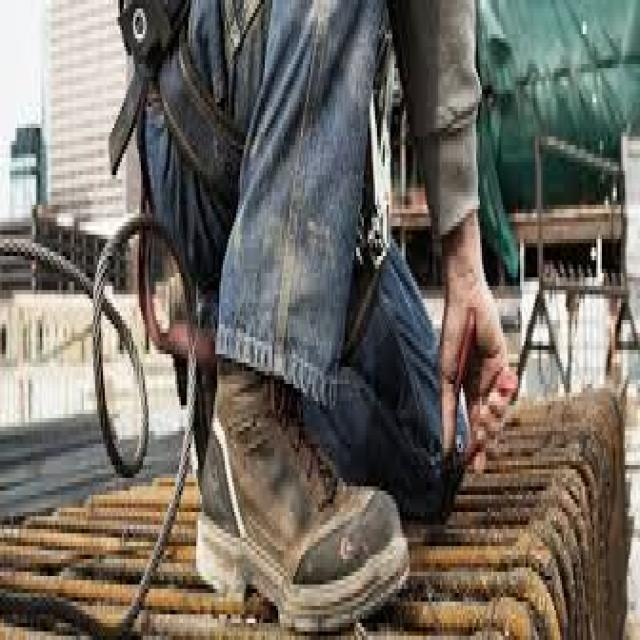shoes: (181, 350, 415, 640)
